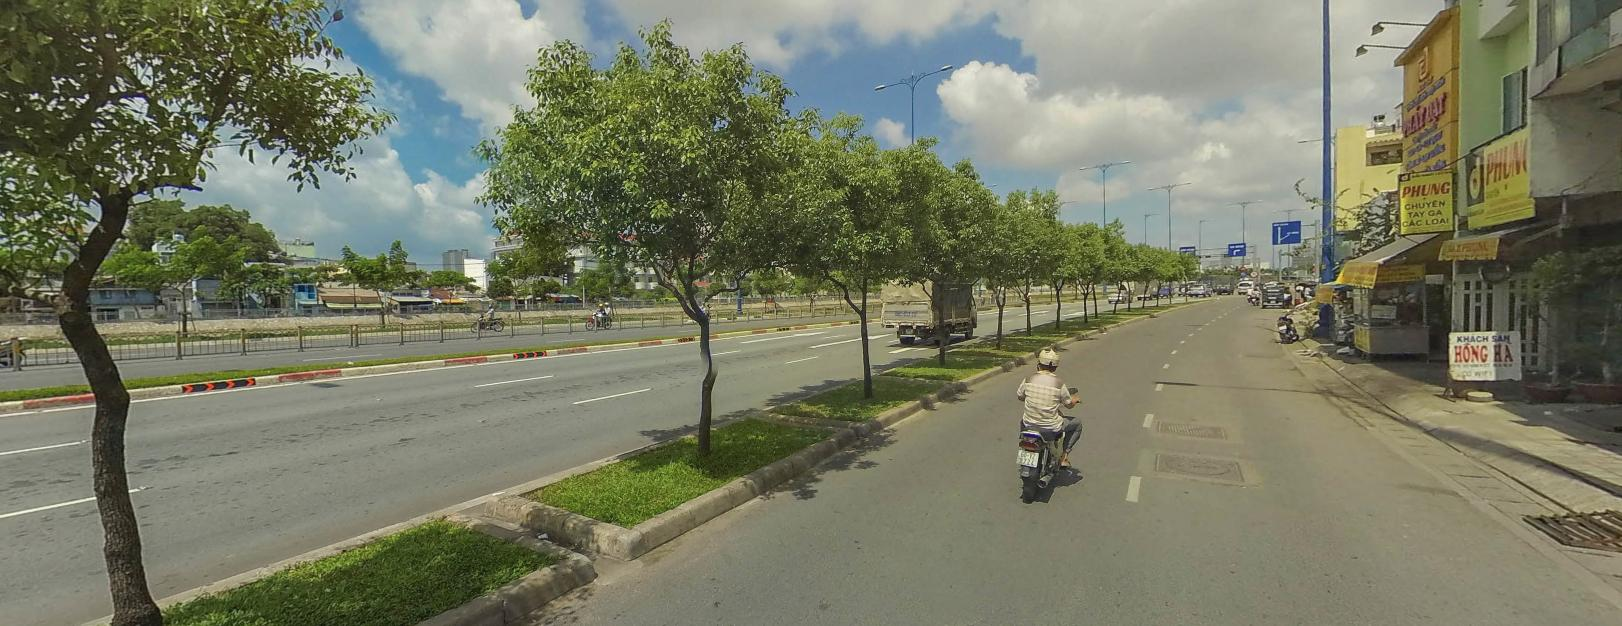Cam con lai: (1250, 270, 1256, 275)
Cam nguoc chieu: (1240, 265, 1246, 270)
Hieu lenh: (1240, 270, 1245, 275)
